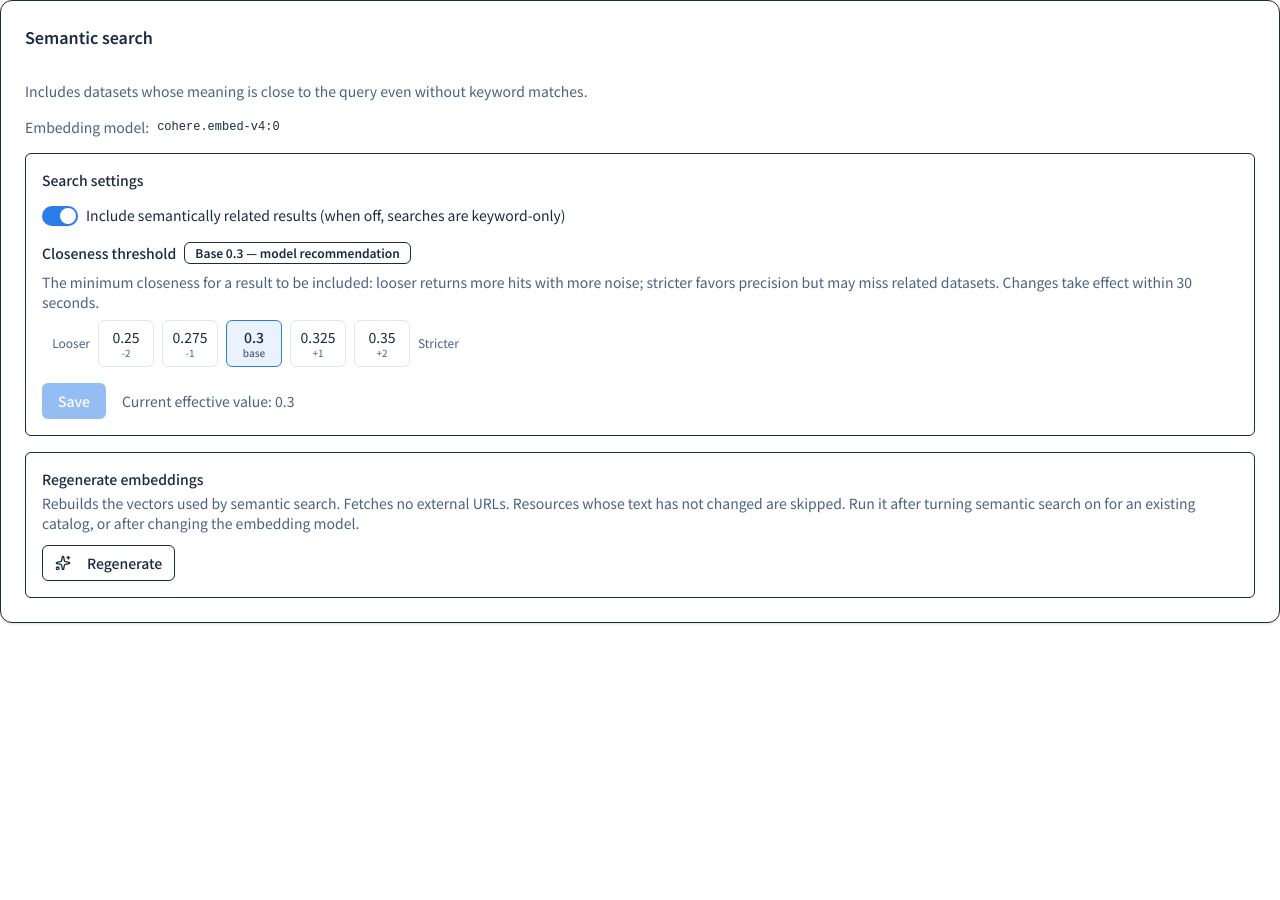
Test: SemanticSearchCard › saves the threshold, and shows the value the server now applies
The width and height of the screenshot is (1280, 900).
expect the text "Current effective value: 0.3" is shown: met, box [122,390,294,410]
expect the button "Save" is disabled: met, box [42,382,106,418]
Click the button "0.35 +2": [382, 343] box [354,320,410,366]
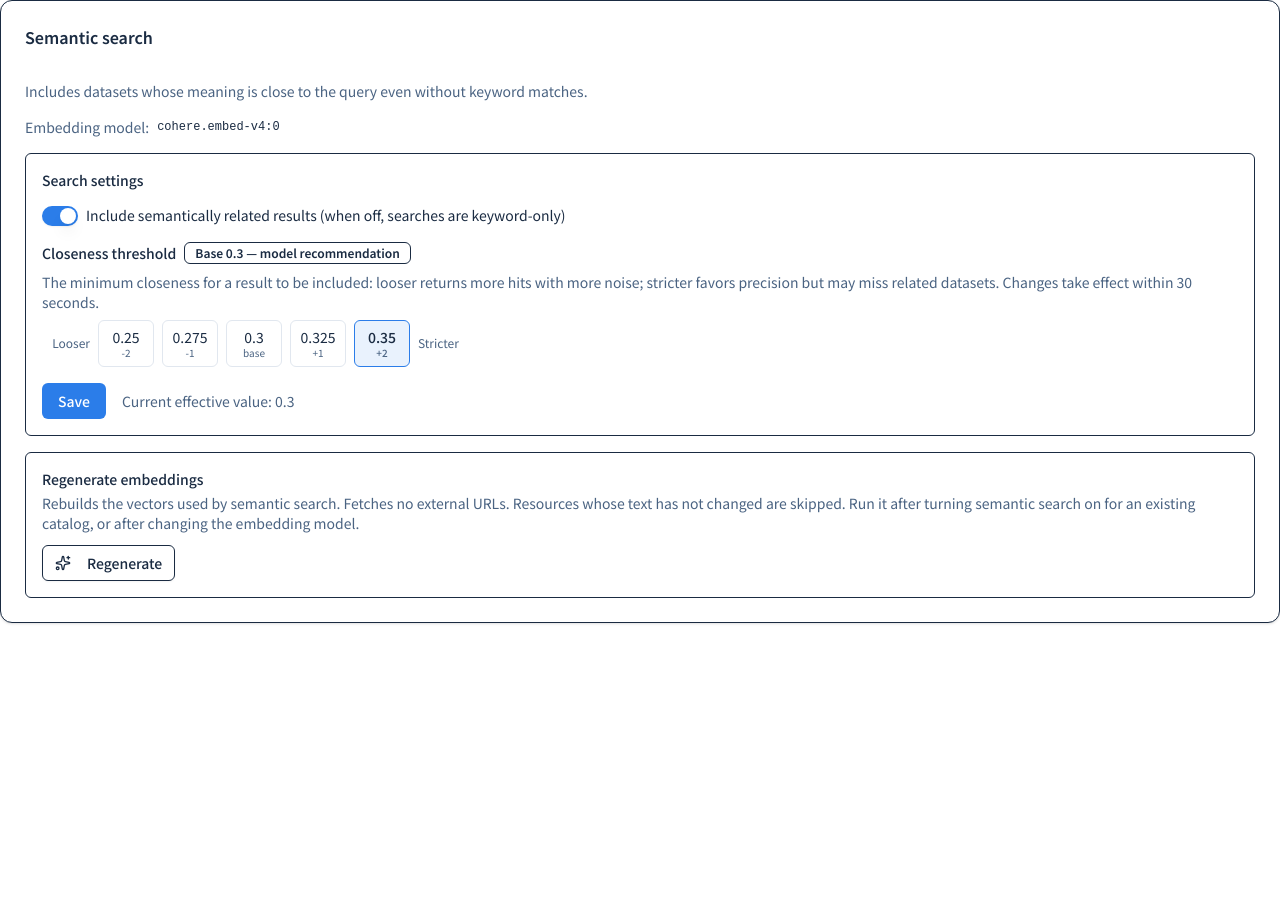
Click the button "Save": [74, 400] box [42,382,106,418]
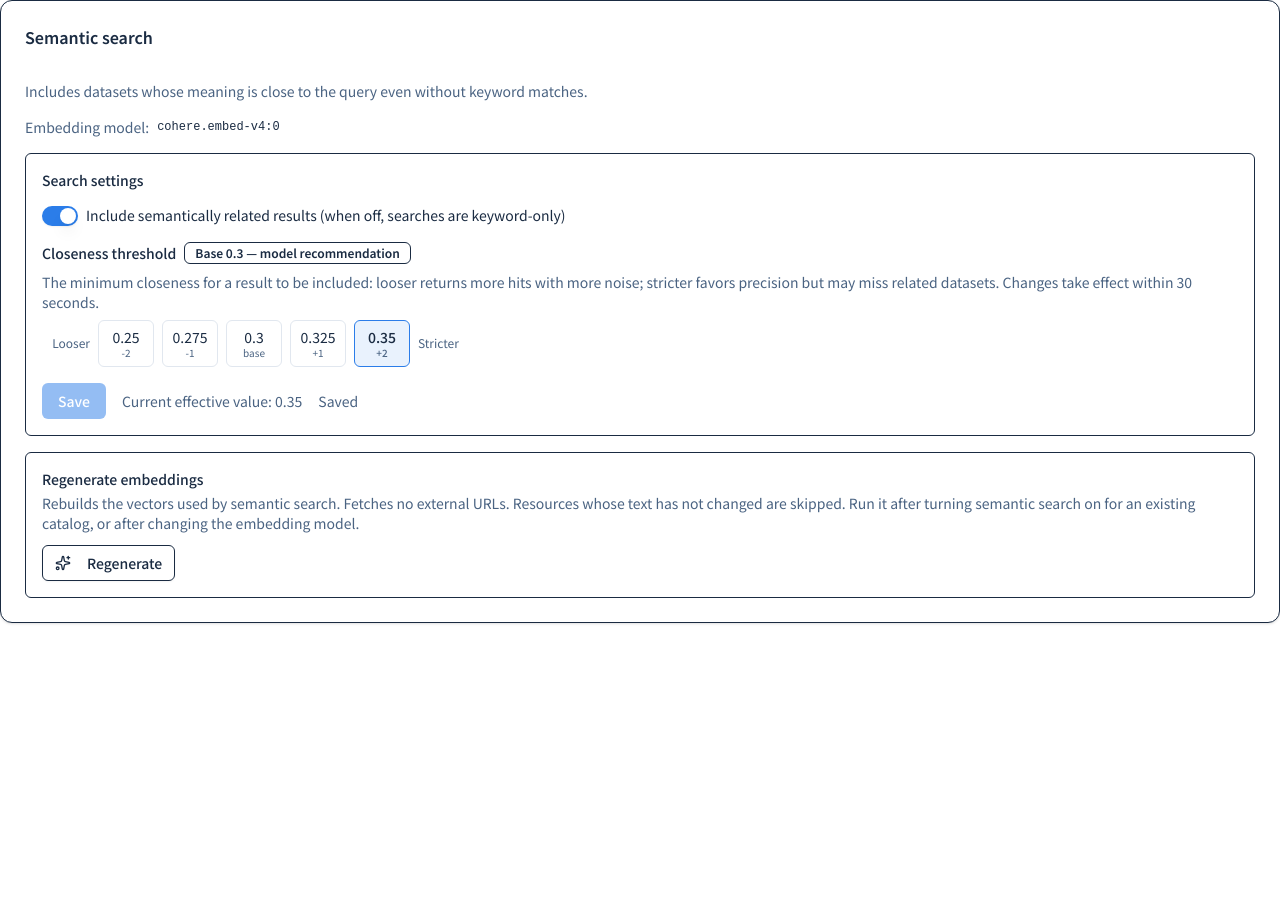
expect the text "Current effective value: 0.35" is shown: met, box [122,390,302,410]
expect the text "Saved" is shown: met, box [318,390,358,410]
